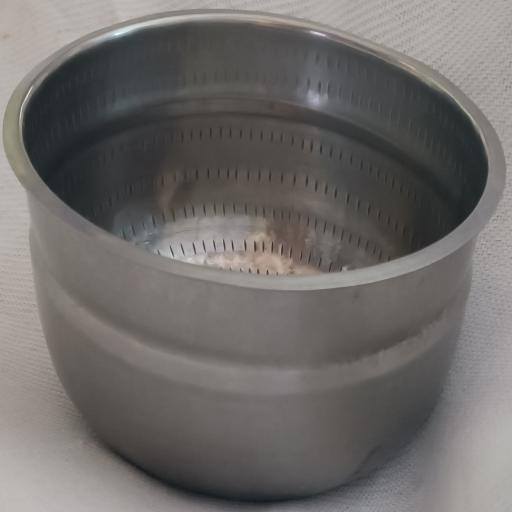vessel: (4, 11, 505, 499)
